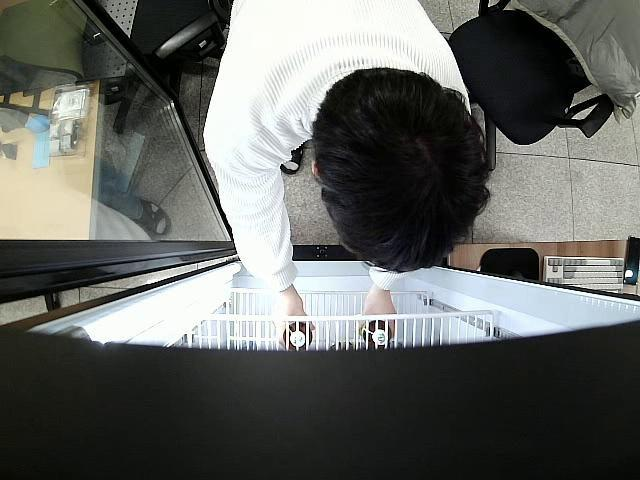19_17cha: (280, 320, 314, 351), (364, 322, 394, 347)
